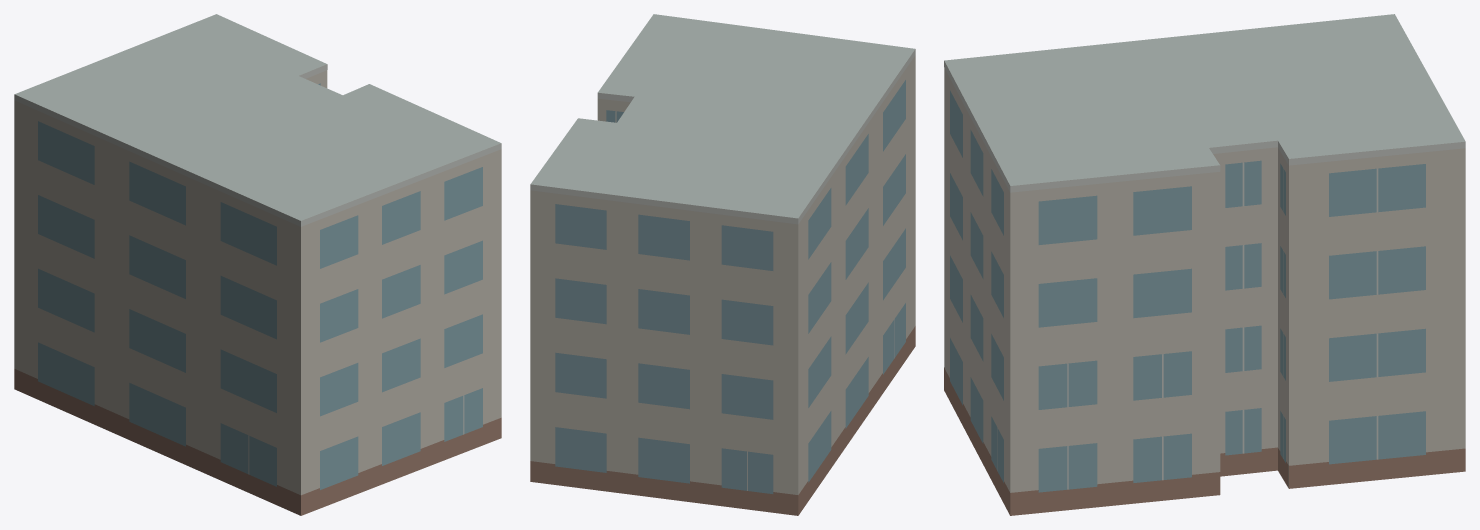
File: survey-upis-32798959.glb
3 renders of one model, left to right at view 1: azimuth 30°, elevation 25°; view 2: azimuth 150°, elevation 25°; view 3: azimuth 270°, elevation 25°, orthographic. The views are drawn at different scales.
Parts seen in each view (by area): view 1: survey-upis-32798959.tmp; view 2: survey-upis-32798959.tmp; view 3: survey-upis-32798959.tmp.
Boxes of the visible parts, x1,y1,x2,y2 form: survey-upis-32798959.tmp: (14, 14, 501, 515); survey-upis-32798959.tmp: (530, 14, 915, 515); survey-upis-32798959.tmp: (944, 14, 1465, 515).
Bounding box in the file's own units: 13.66 × 12.2 × 17.5.
